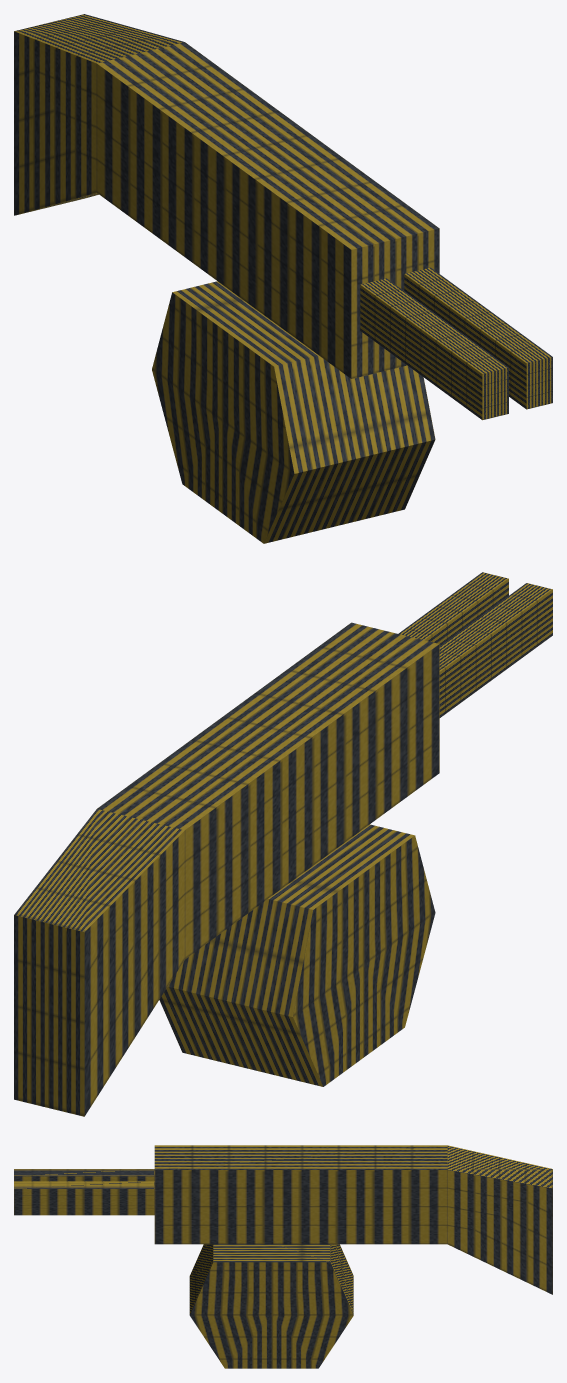
The model's file is automag_heavy_rifle_lvl3.obj.
3 renders of one model, top to bottom at view 1: azimuth 30°, elevation 25°; view 2: azimuth 150°, elevation 25°; view 3: azimuth 270°, elevation 25°, orthographic. The views are drawn at different scales.
Size of the model in its own units: 0.8 by 1.8 by 4.6.
Materials: 3 (3 with a texture image).
